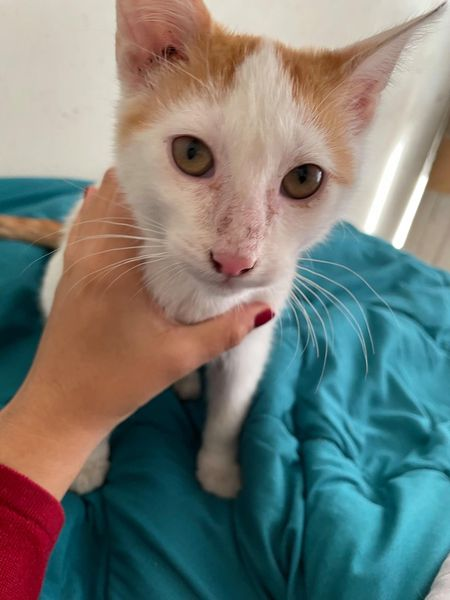cat: (23, 1, 436, 513)
